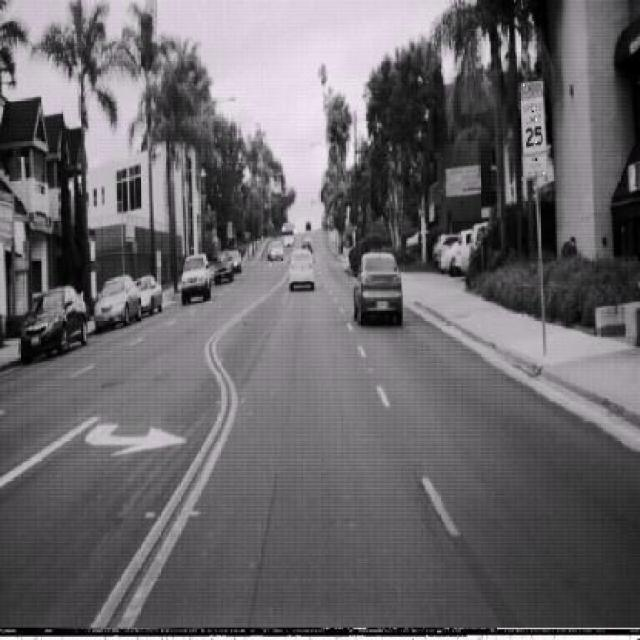schoolSpeedLimit25: (518, 78, 549, 180)
